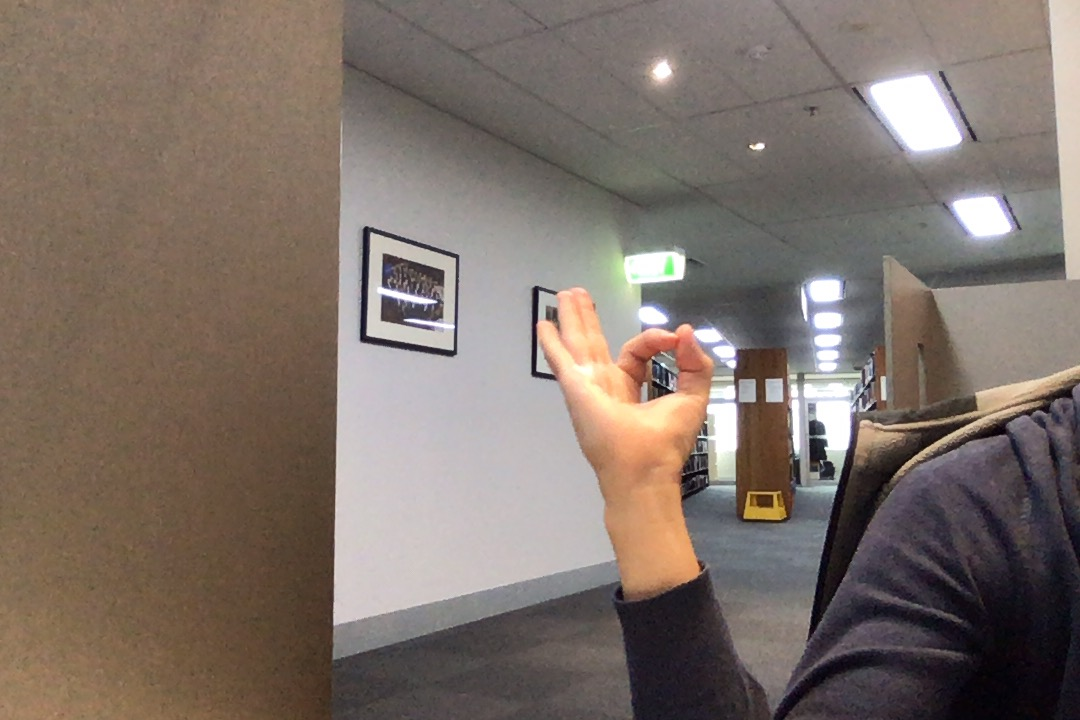oksign: (526, 273, 719, 487)
